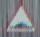Speed Breaker ahead: (2, 3, 38, 33)
